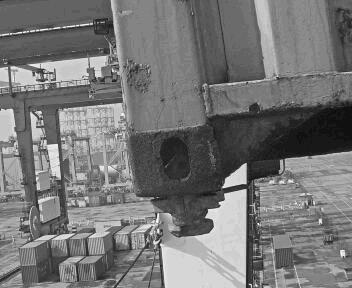twist_lock_1: (144, 185, 232, 243)
